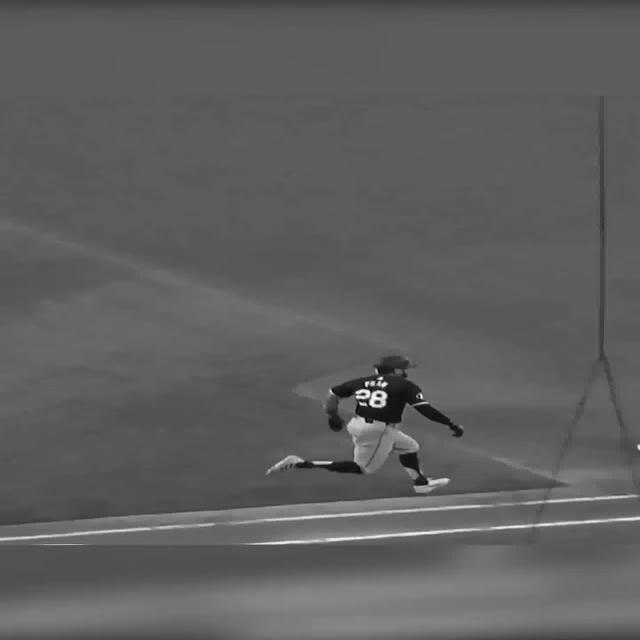shoe: (265, 455, 305, 475), (412, 477, 450, 493)
